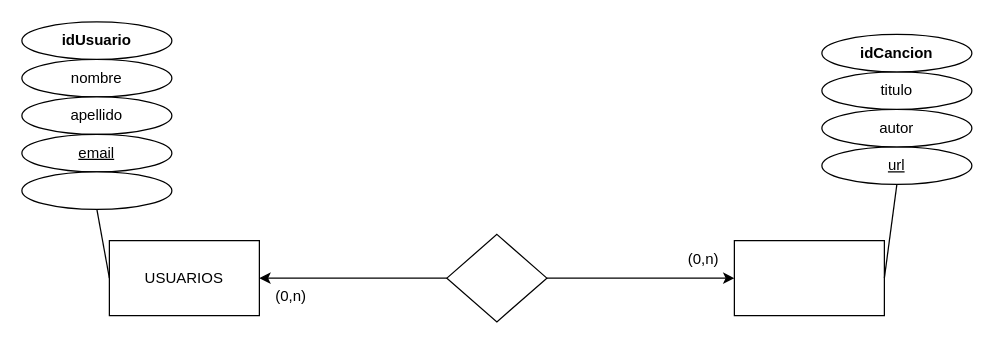
This 994x344 diagram has some shape labels left out. Here are the shapes that lost their labels. From the top down, the centre of each, then its label:
At point (96, 190): "contraseña".
At point (496, 277): "guardan".
At point (808, 277): "CANCIONES".
